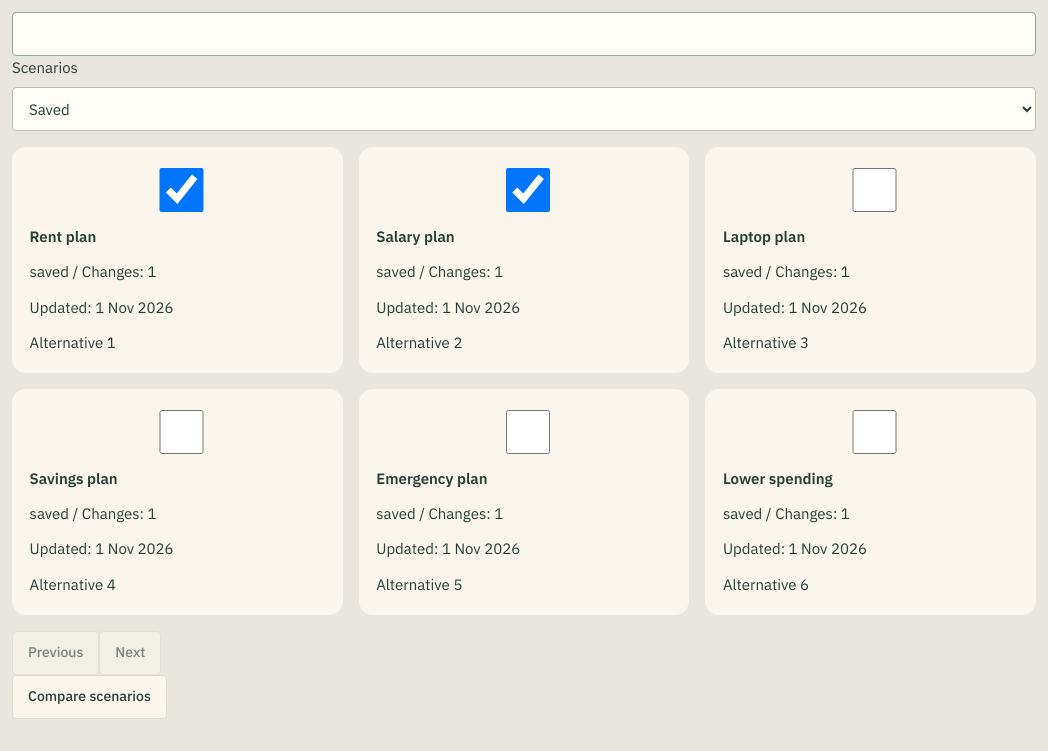
keeps missing and stale results explicit
The image size is (1048, 751).
(page scrolled)
Click the button "Compare scenarios". click: (89, 697)
box: [12,675,167,719]
(page scrolled)
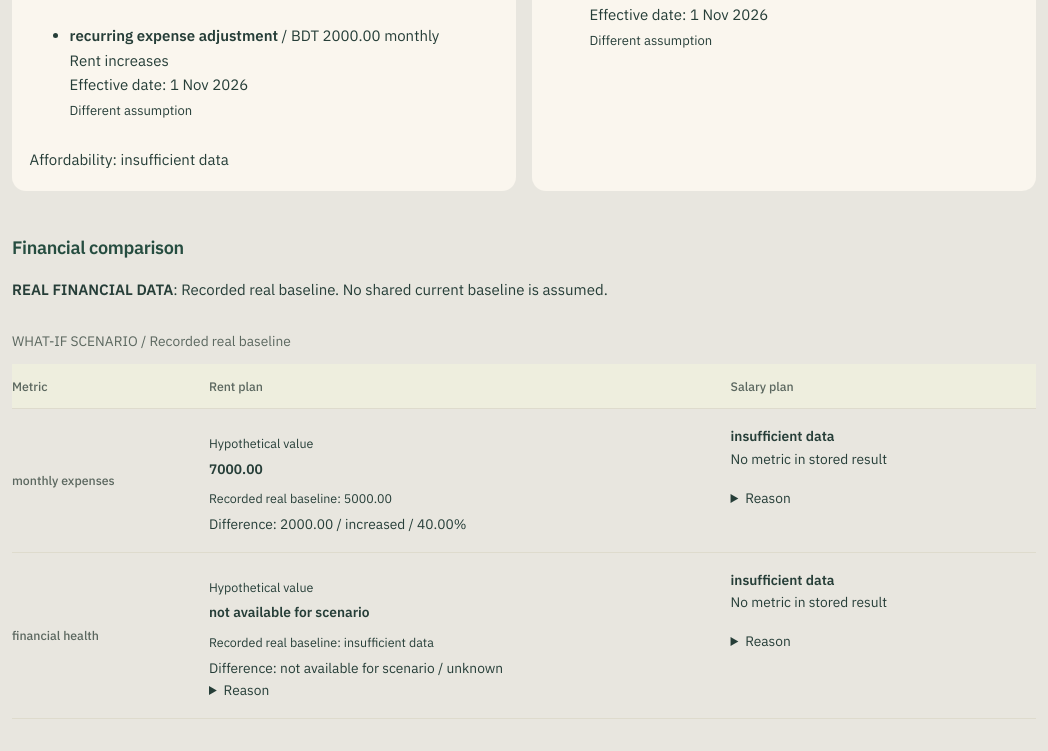
Expected: the 1st text "insufficient data" is shown, [730,427,834,445]
